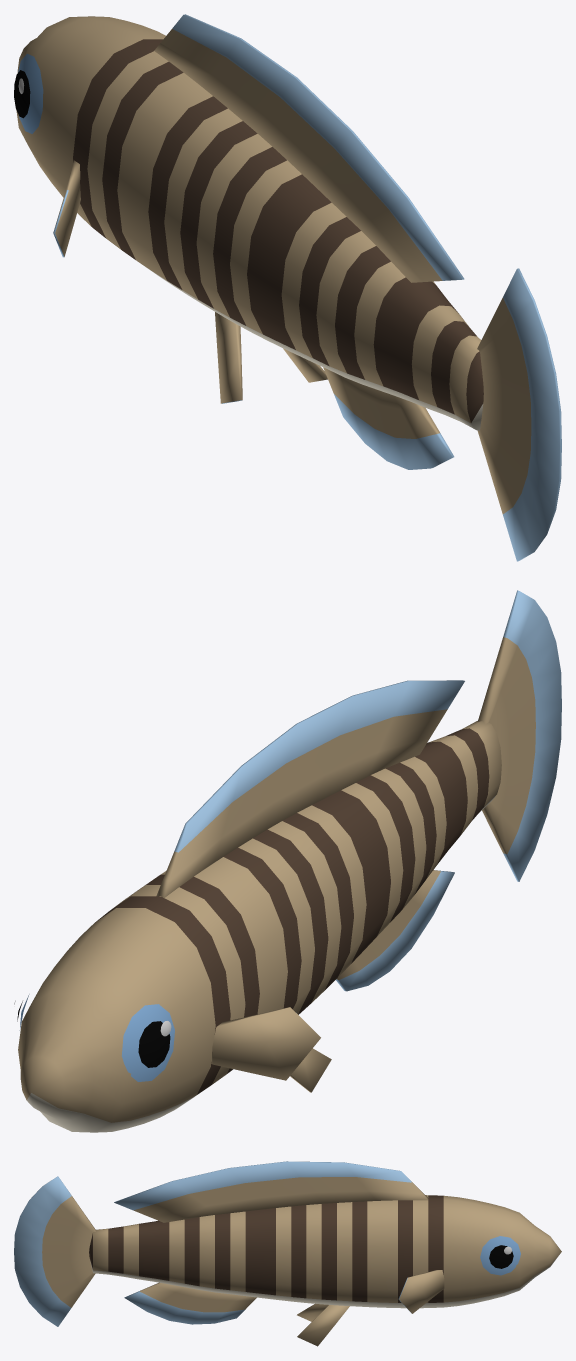
Rendered from shell_dweller.glb.
3 views of the same model, one above another, from view 1: azimuth 30°, elevation 25°; view 2: azimuth 150°, elevation 25°; view 3: azimuth 270°, elevation 25° (orthographic). The views are drawn at different scales.
Visible parts, largest first — view 1: shell_dweller; view 2: shell_dweller; view 3: shell_dweller.
Boxes of the visible parts, box(x1,y1,x2,y2) form: shell_dweller: box(14, 14, 561, 561); shell_dweller: box(14, 590, 561, 1132); shell_dweller: box(14, 1161, 561, 1346).
Bounding box in the file's own units: 0.6068 × 0.7342 × 2.1.
